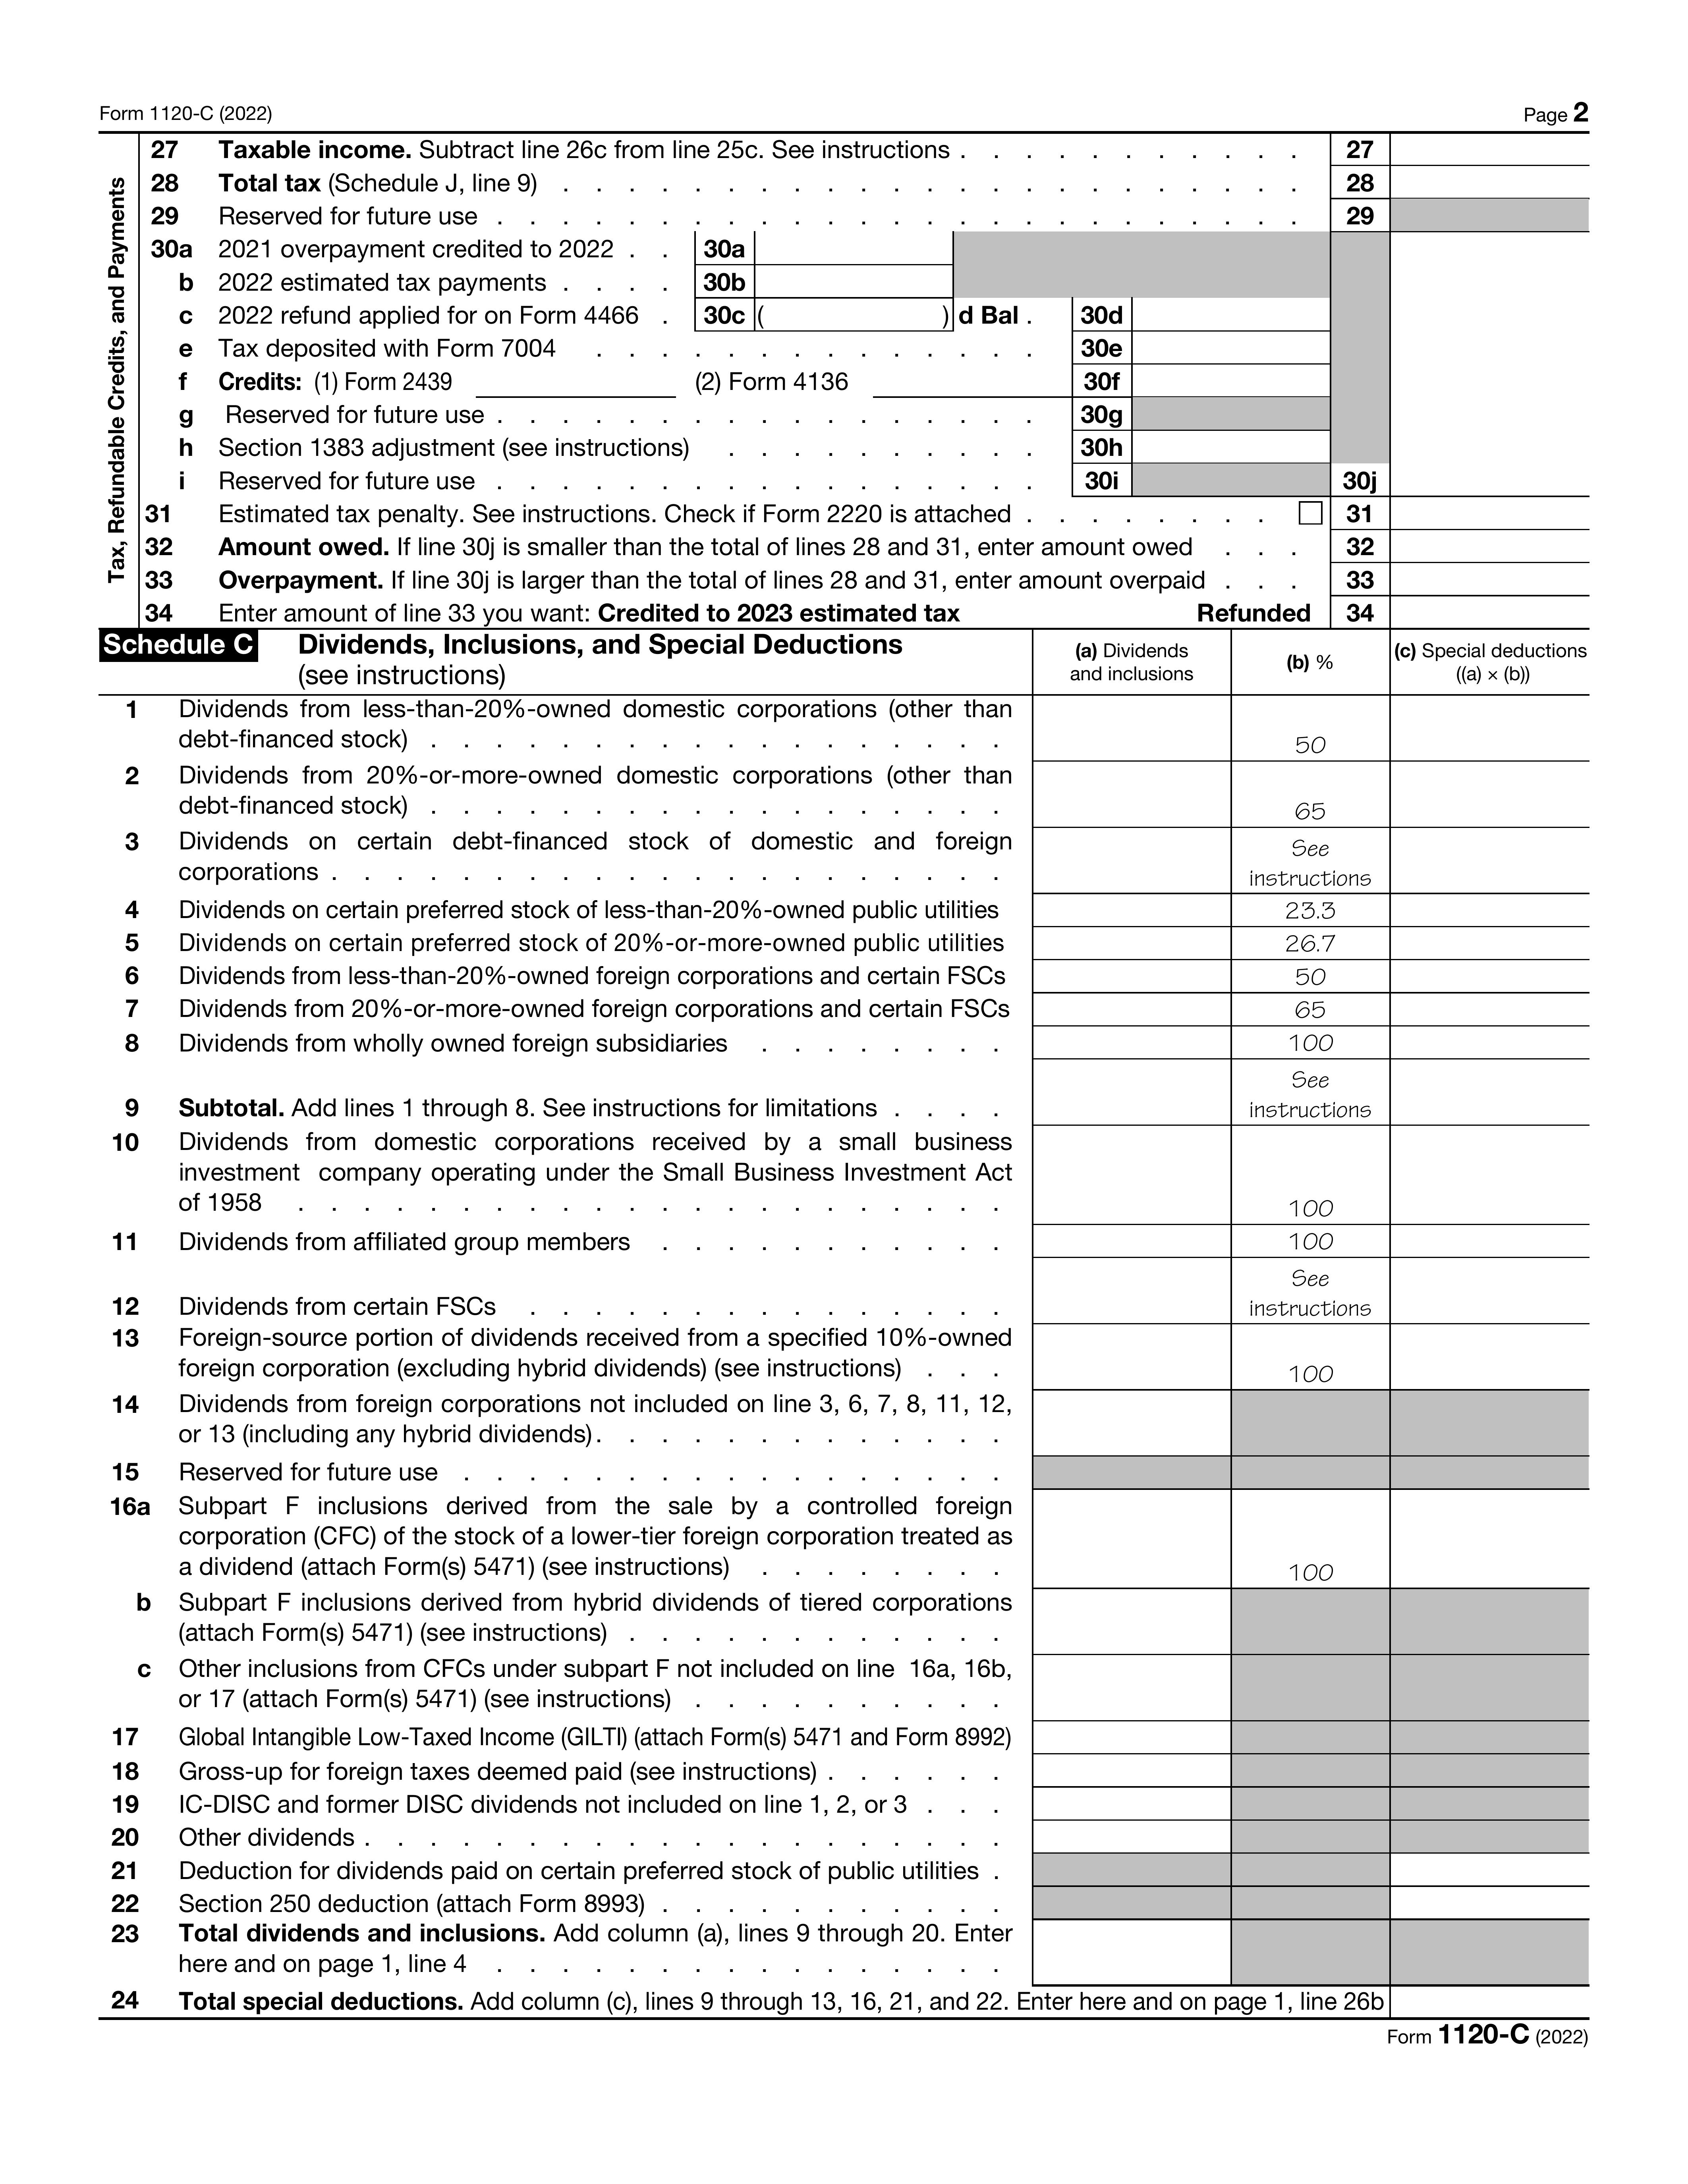table: (90, 631, 1617, 2019), (90, 129, 1631, 631)
